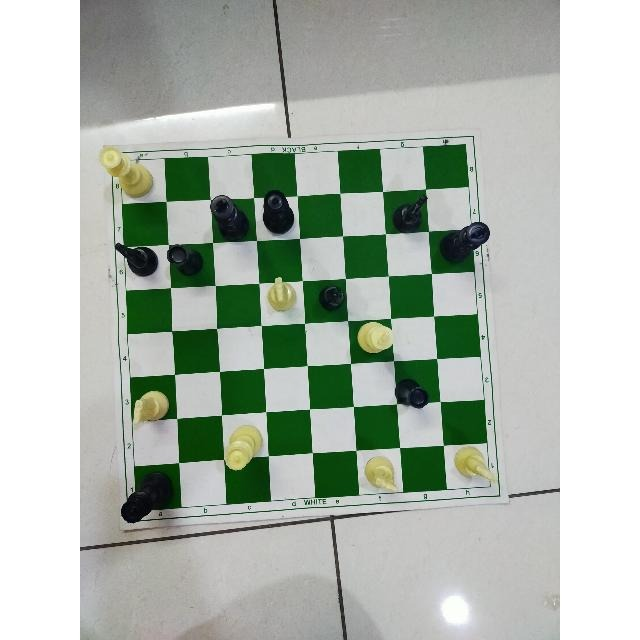black-bishop: (318, 284, 346, 312)
black-king: (437, 221, 490, 265), (210, 194, 250, 242)
black-knight: (113, 242, 159, 278), (392, 192, 428, 234)
black-queen: (120, 468, 176, 523), (262, 188, 296, 235)
black-rook: (165, 244, 204, 277), (394, 377, 430, 410)
white-king: (356, 321, 395, 357)
white-knight: (455, 446, 499, 486), (130, 390, 172, 426), (363, 456, 399, 496), (266, 274, 297, 314)
white-queen: (98, 145, 154, 198), (222, 425, 264, 473)
